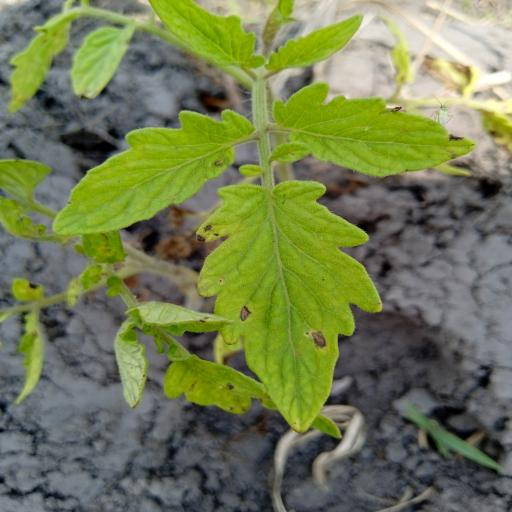Tomato_Brown_Spots: (189, 172, 386, 438), (50, 105, 253, 239), (273, 78, 472, 178)
